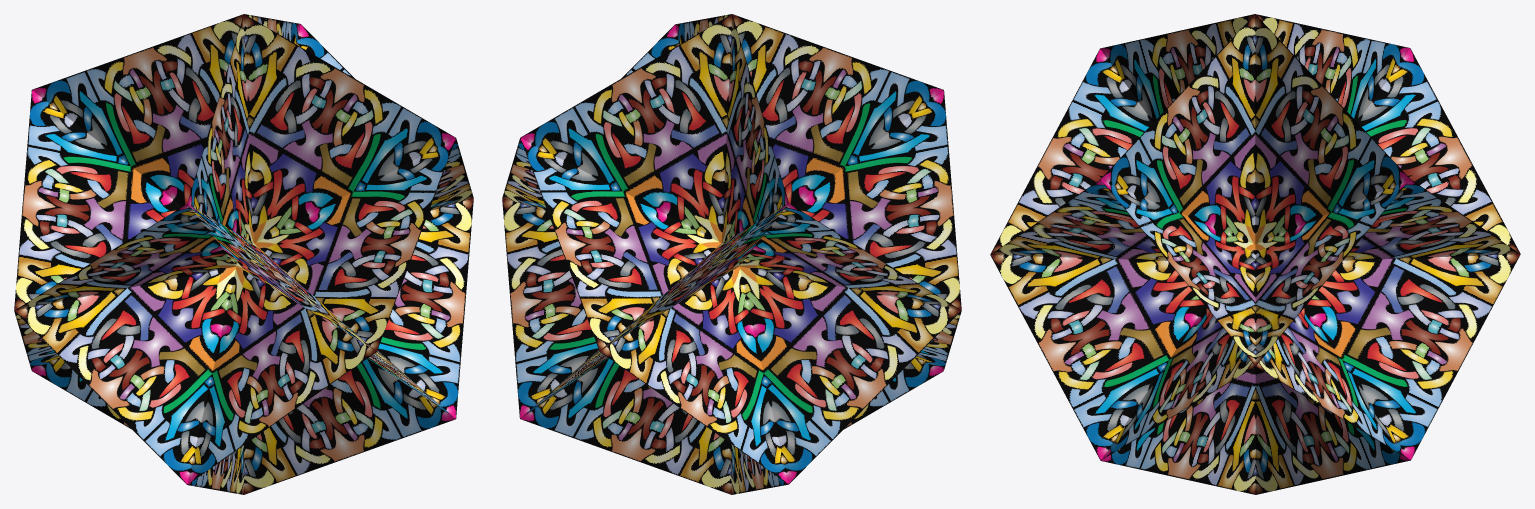
The model's file is 33Mobius48b.obj.
3 views of the same model, side by side, from view 1: azimuth 30°, elevation 25°; view 2: azimuth 150°, elevation 25°; view 3: azimuth 270°, elevation 25° (orthographic).
Size of the model in its own units: 2.16 by 2.16 by 2.16.
1 material, 1 textured.
